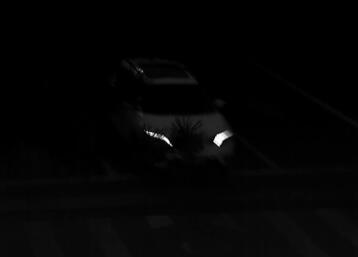car: (104, 54, 235, 163)
